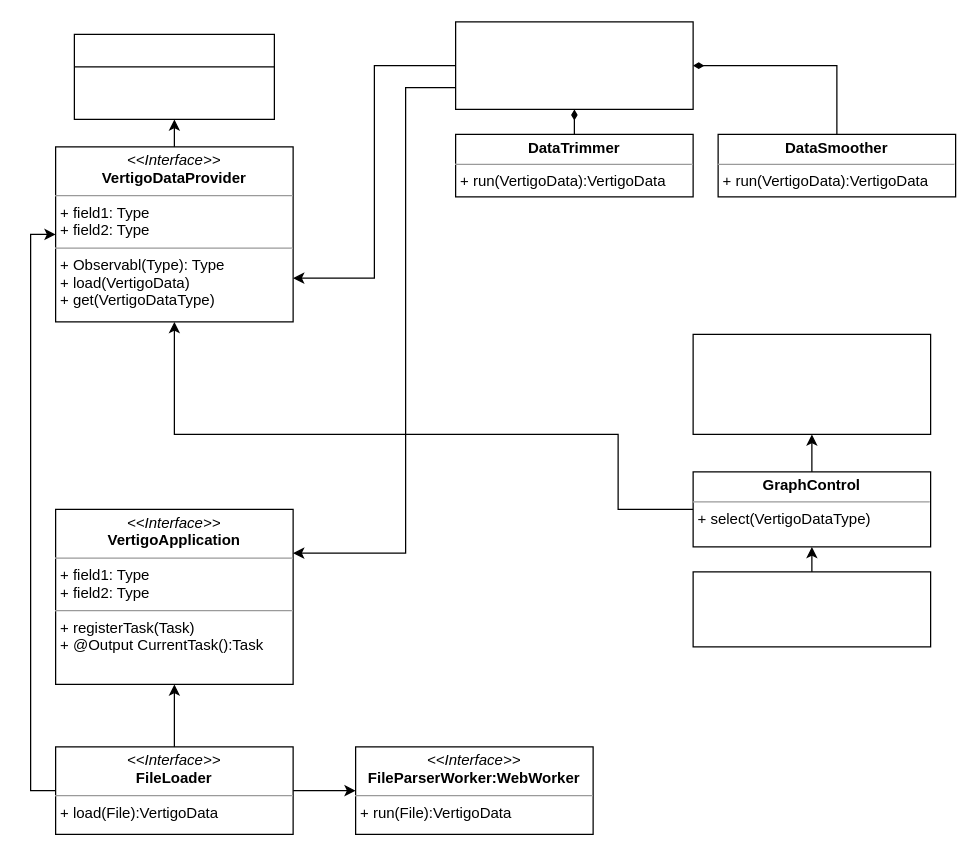
This 978x856 diagram has some shape labels left out. The shapes that lost their labels are listed below. From the top down, each one's centre as x and y in pixels, then its label:
point (173, 76): Database
point (573, 65): <<Interface>> DataProcessor + run(VertigoData):VertigoData
point (811, 383): <<Interface>> Graph +
point (811, 609): SeriesSelector + select(VertigoDataType)
